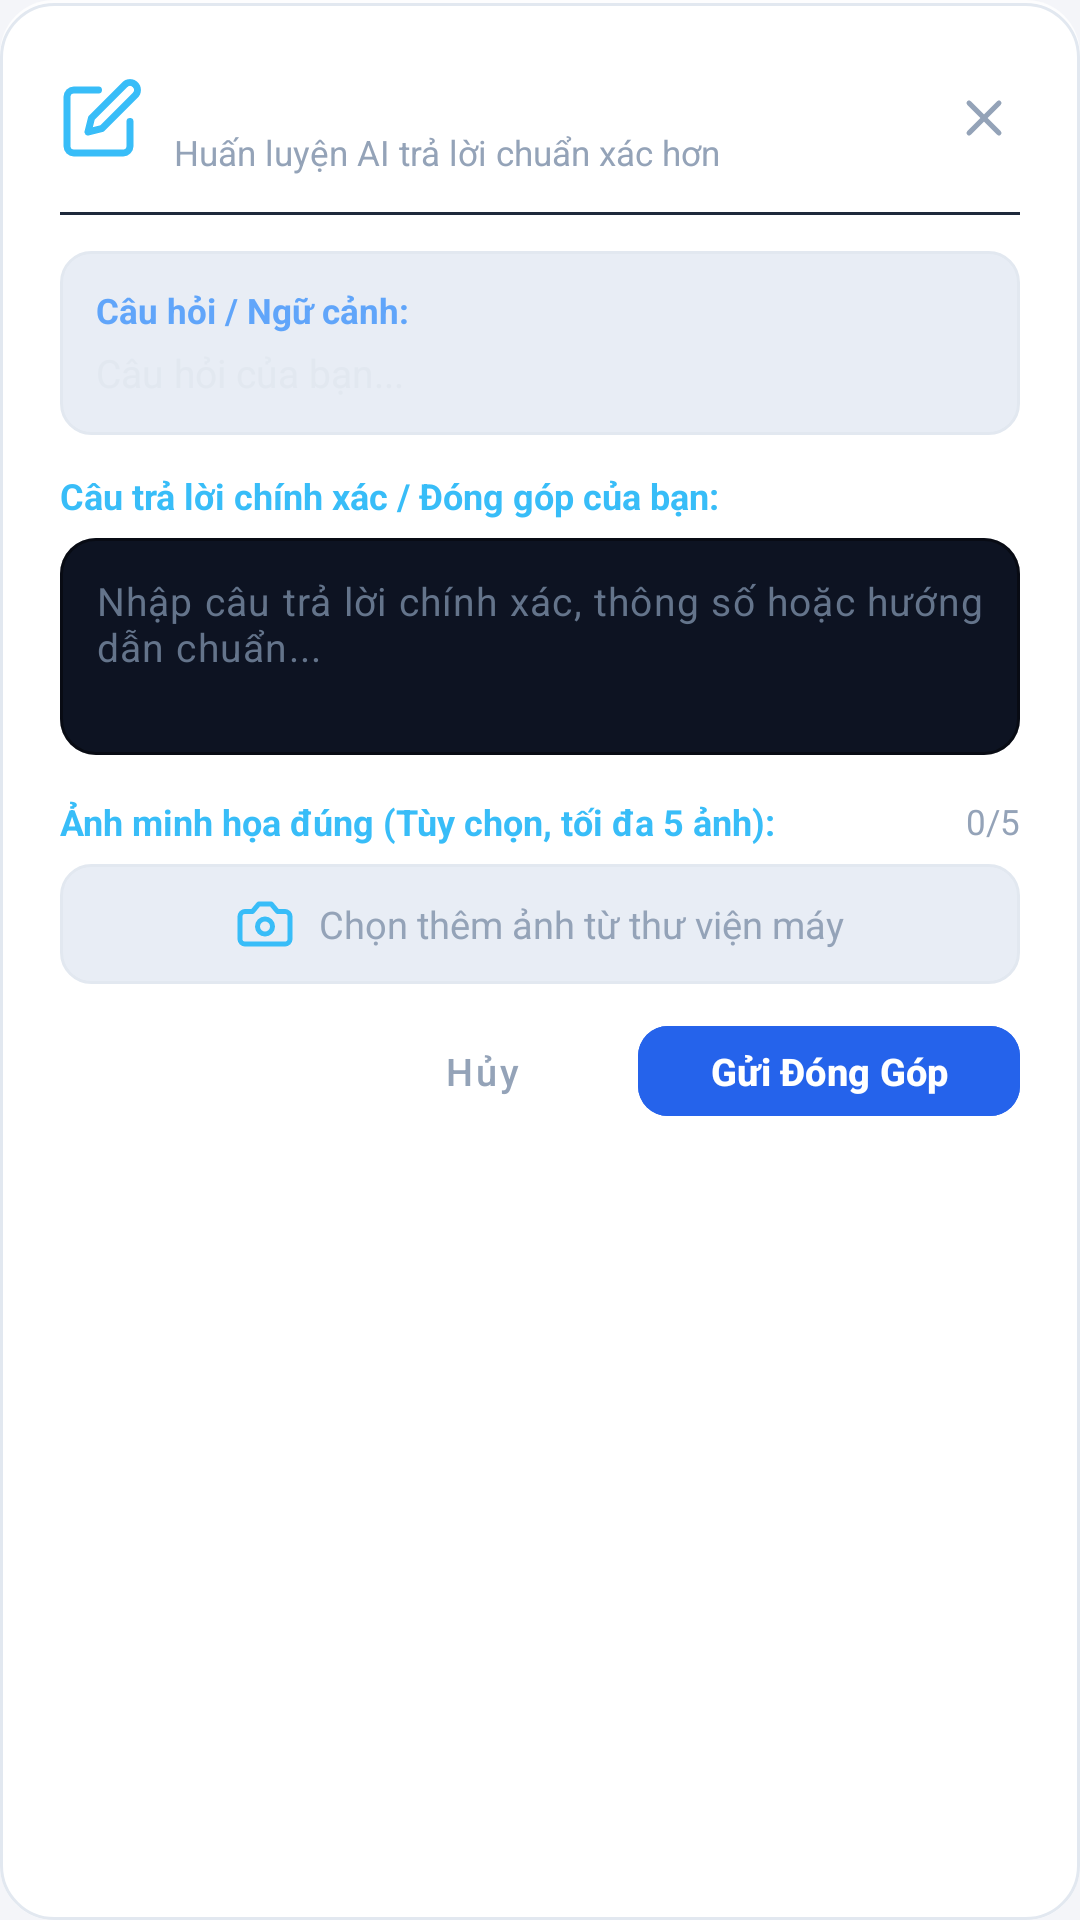

Named icons in this screenshot (1080w x 1920h) and their centers, point (x, y):
camera: point (265, 924)
close: point (984, 118)
edit note: point (102, 118)
